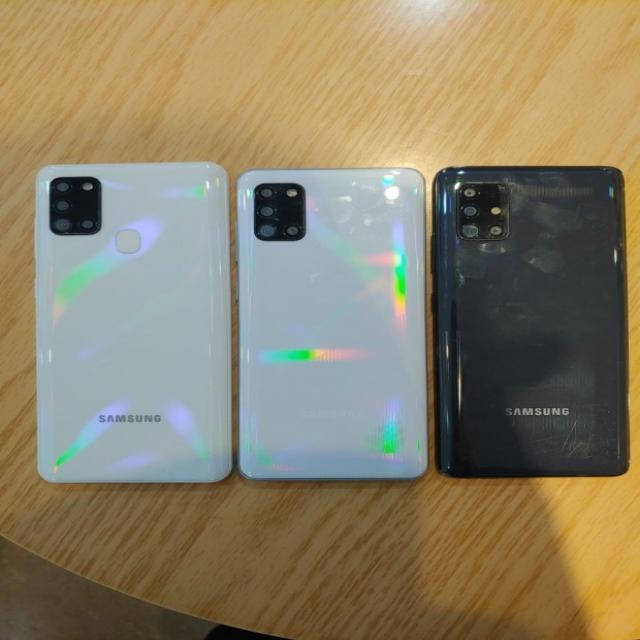phone: (35, 166, 232, 482), (434, 165, 629, 476), (239, 167, 427, 482)
